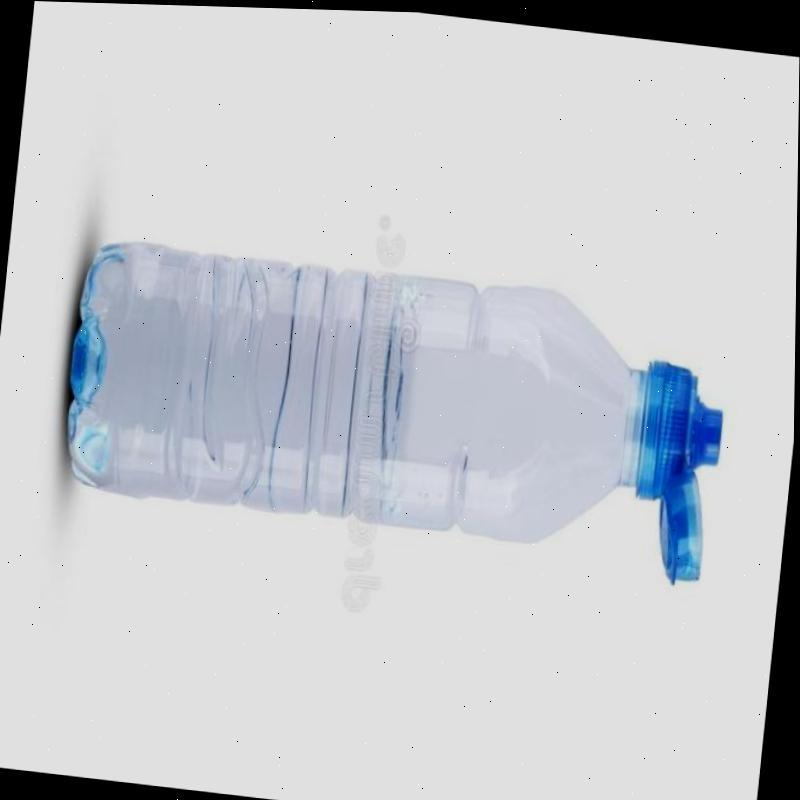botella: (50, 228, 740, 586)
